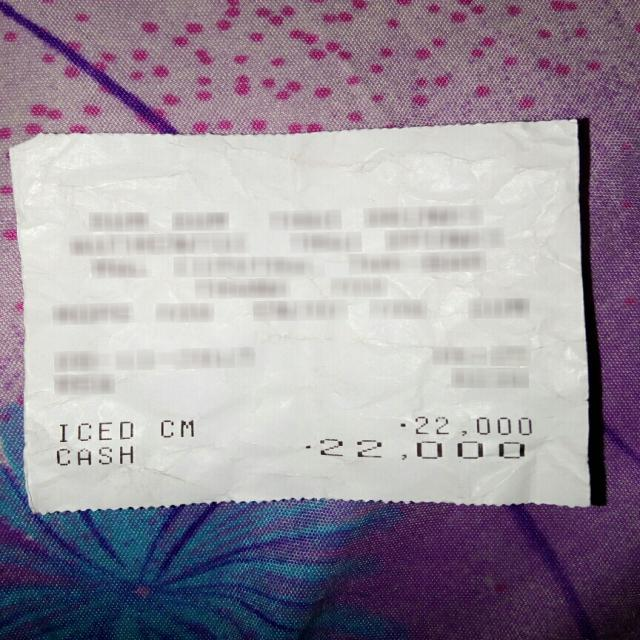kertas: (11, 120, 598, 522)
